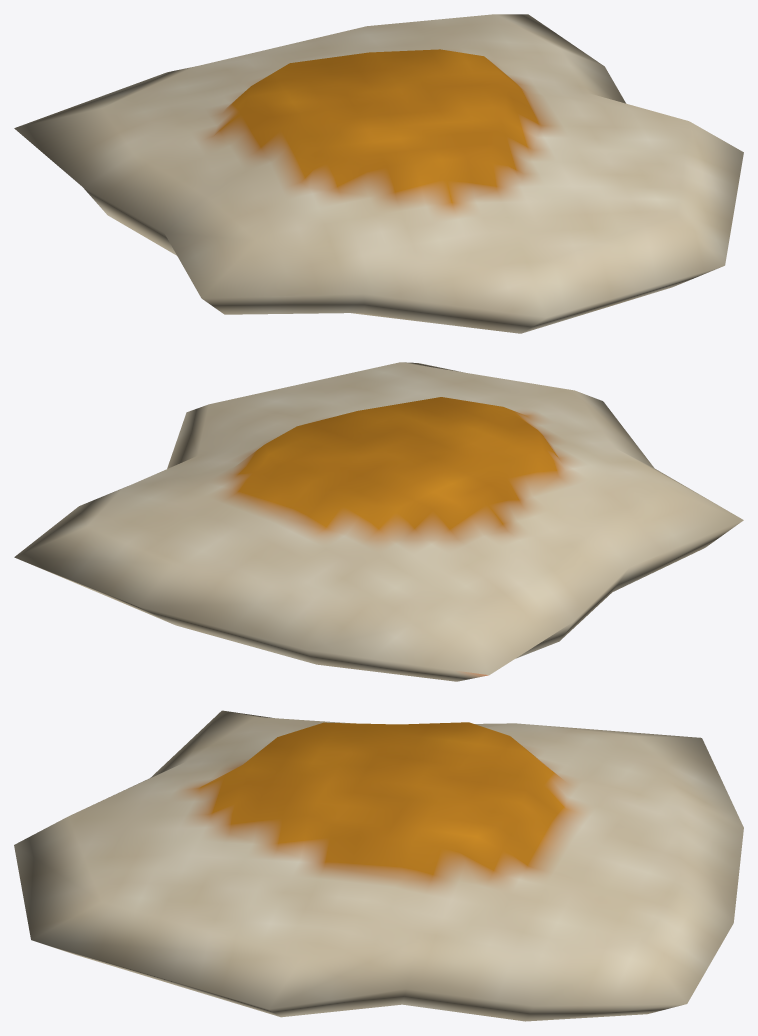
The model's file is egg.fbx.
3 views of the same model, one above another, from view 1: azimuth 30°, elevation 25°; view 2: azimuth 150°, elevation 25°; view 3: azimuth 270°, elevation 25° (orthographic). The views are drawn at different scales.
Parts seen in each view (by area): view 1: egg; view 2: egg; view 3: egg.
Part boxes in pixels (left/top/right/bottom): egg: left=14, top=14, right=743, bottom=333; egg: left=14, top=362, right=743, bottom=681; egg: left=14, top=710, right=743, bottom=1021.
Bounding box in the file's own units: 0.7331 × 0.1707 × 0.7788.
